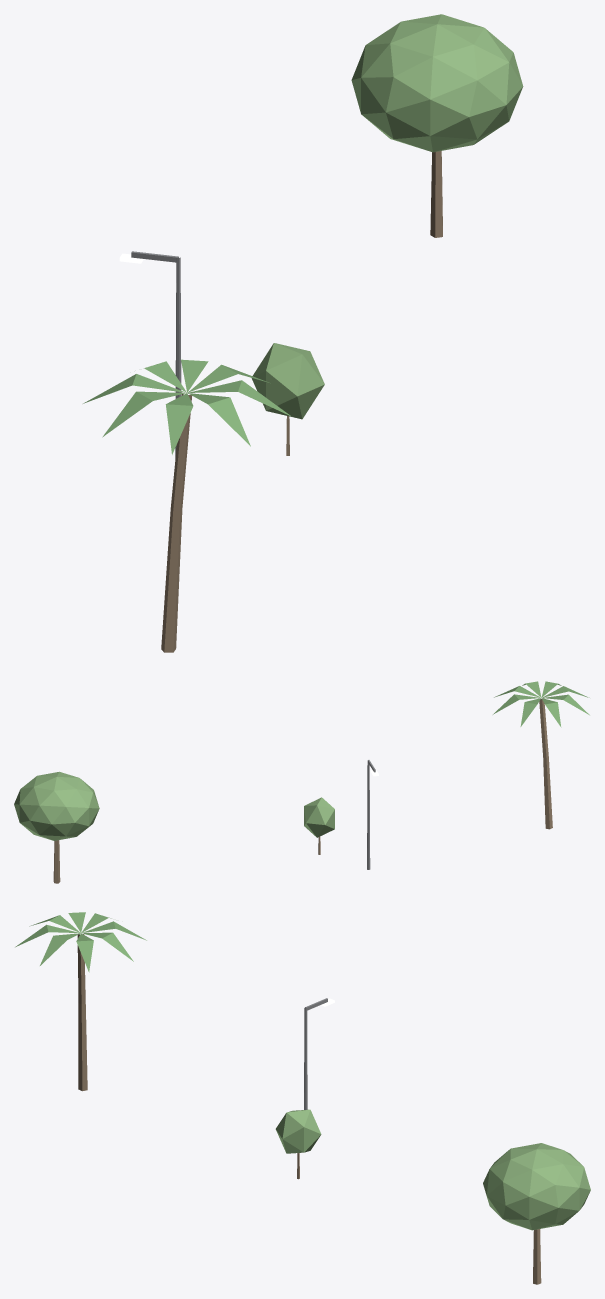
The model's file is nature_4_6.glb.
3 renders of one model, top to bottom at view 1: azimuth 30°, elevation 25°; view 2: azimuth 150°, elevation 25°; view 3: azimuth 270°, elevation 25°, orthographic. The views are drawn at different scales.
Parts seen in each view (by area): view 1: foliage_b, palm_leaf, trunk, lamp_pole; view 2: foliage_b, palm_leaf, trunk, lamp_pole; view 3: foliage_b, palm_leaf, trunk, lamp_pole.
Boxes of the visible parts, bbox=[...] form: foliage_b: bbox=[251, 14, 523, 419]; palm_leaf: bbox=[83, 359, 291, 454]; trunk: bbox=[161, 151, 442, 652]; lamp_pole: bbox=[131, 251, 181, 458]; foliage_b: bbox=[14, 771, 334, 840]; palm_leaf: bbox=[493, 681, 589, 727]; trunk: bbox=[53, 698, 552, 883]; lamp_pole: bbox=[367, 760, 375, 869]; foliage_b: bbox=[275, 1109, 590, 1230]; palm_leaf: bbox=[15, 912, 146, 972]; trunk: bbox=[77, 934, 541, 1284]; lamp_pole: bbox=[304, 998, 327, 1109].
Size of what is drawn, in the model's own units: 23.94 by 7.84 by 24.46.
